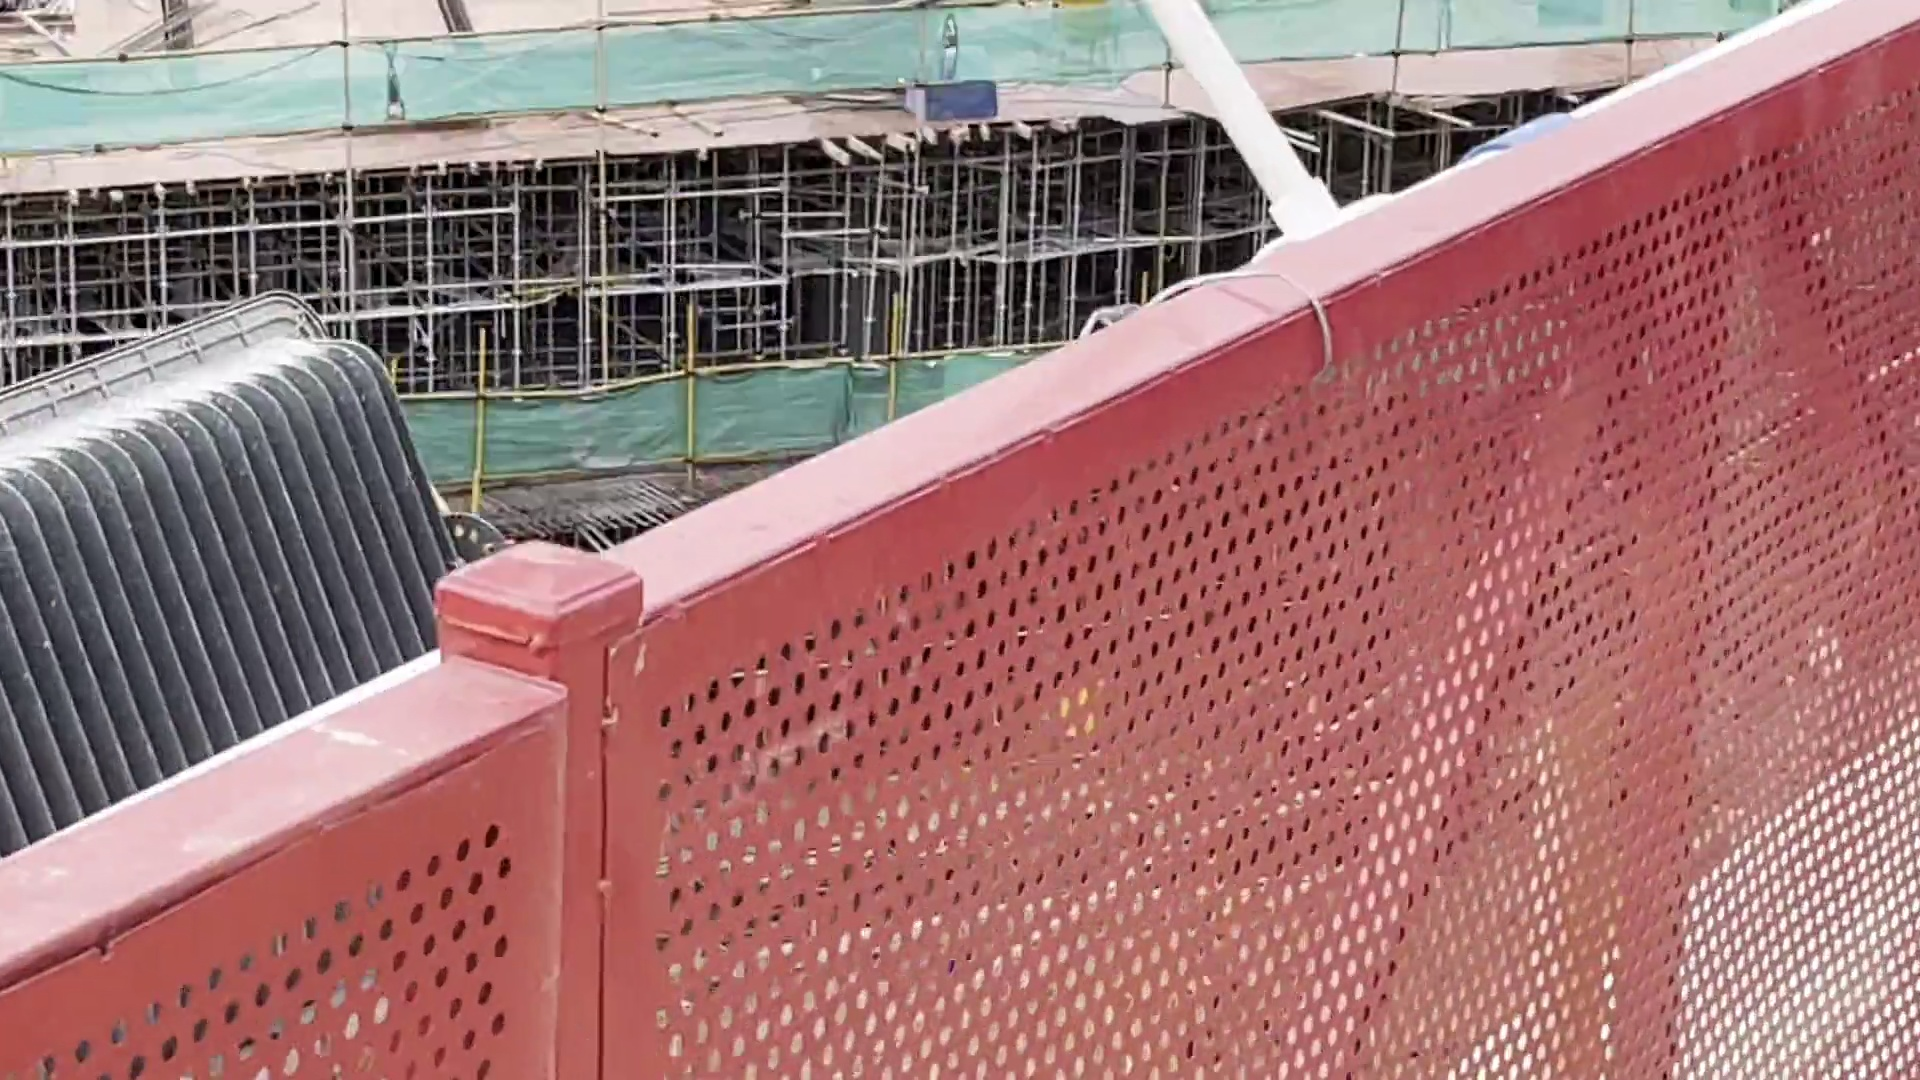fence: (46, 632, 1909, 1069)
